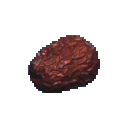gd: (21, 19, 119, 108)
